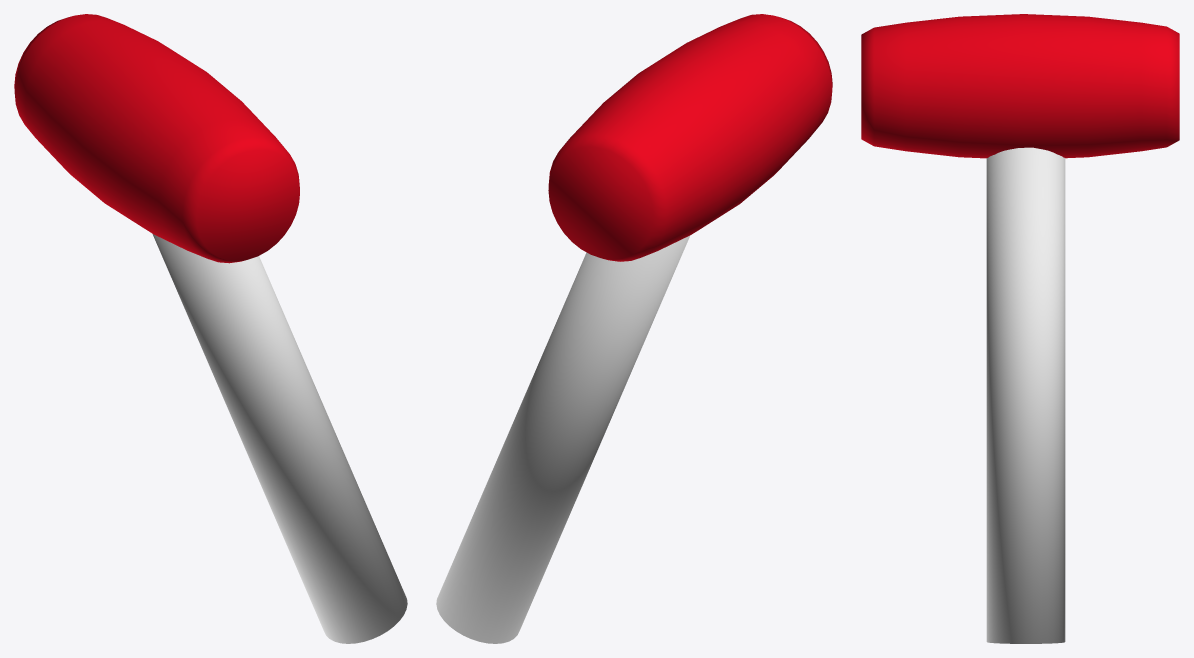
Rendered from lever_handle.001.fbx.
3 renders of one model, left to right at view 1: azimuth 30°, elevation 25°; view 2: azimuth 150°, elevation 25°; view 3: azimuth 270°, elevation 25°, orthographic. The views are drawn at different scales.
Visible parts, largest first — view 1: lever_handle.001, lever.001; view 2: lever_handle.001, lever.001; view 3: lever_handle.001, lever.001.
Boxes of the visible parts, x1,y1,x2,y2 form: lever_handle.001: (14, 14, 299, 263); lever.001: (152, 234, 407, 643); lever_handle.001: (548, 14, 832, 261); lever.001: (436, 235, 690, 643); lever_handle.001: (861, 14, 1179, 158); lever.001: (986, 147, 1065, 643).
Size of the model in its own units: 0.1546 by 0.2875 by 0.1522.
